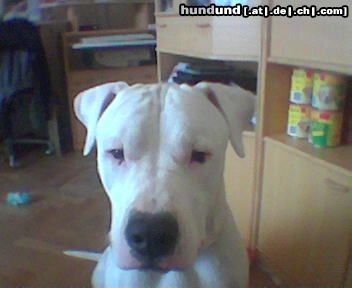dogo_argentino: (63, 81, 256, 288)
